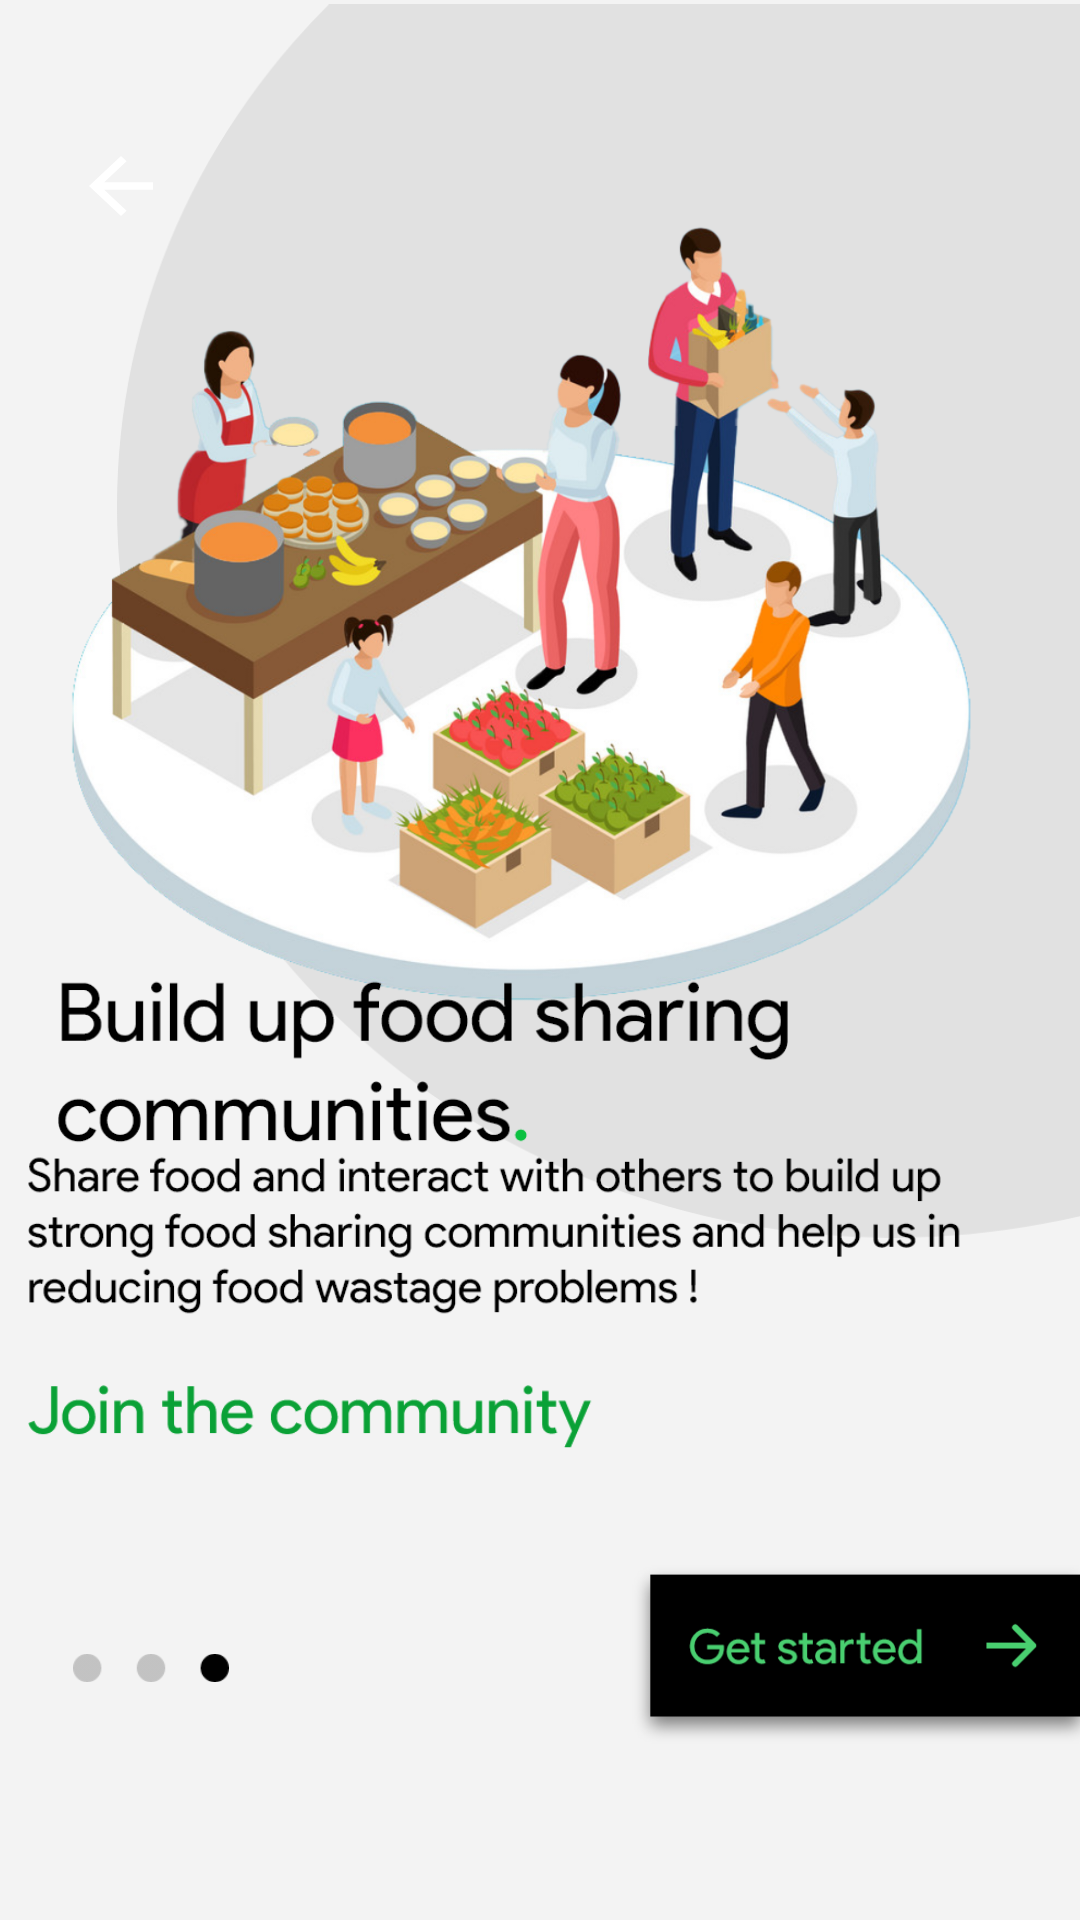

Where icons sit on this 1080px×1920px app screen, as box(x1, y1, x2, y2):
pager dos: box(73, 1654, 229, 1682)
